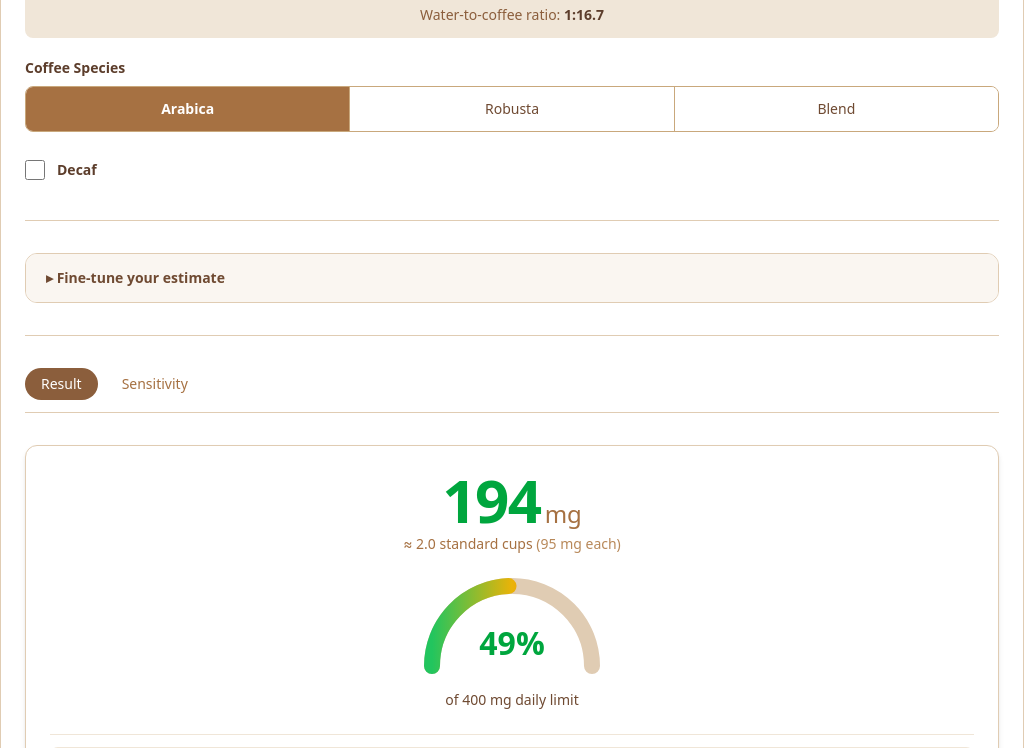
Test: Calculator › can switch back to Result view after viewing Sensitivity
The image size is (1024, 748).
(page scrolled)
Note: Go to Sensitivity
What coordinates should you click on to do the following:
click the button "Sensitivity"
I would click on:
 (155, 384)
Its box is 106,368 -> 204,400.
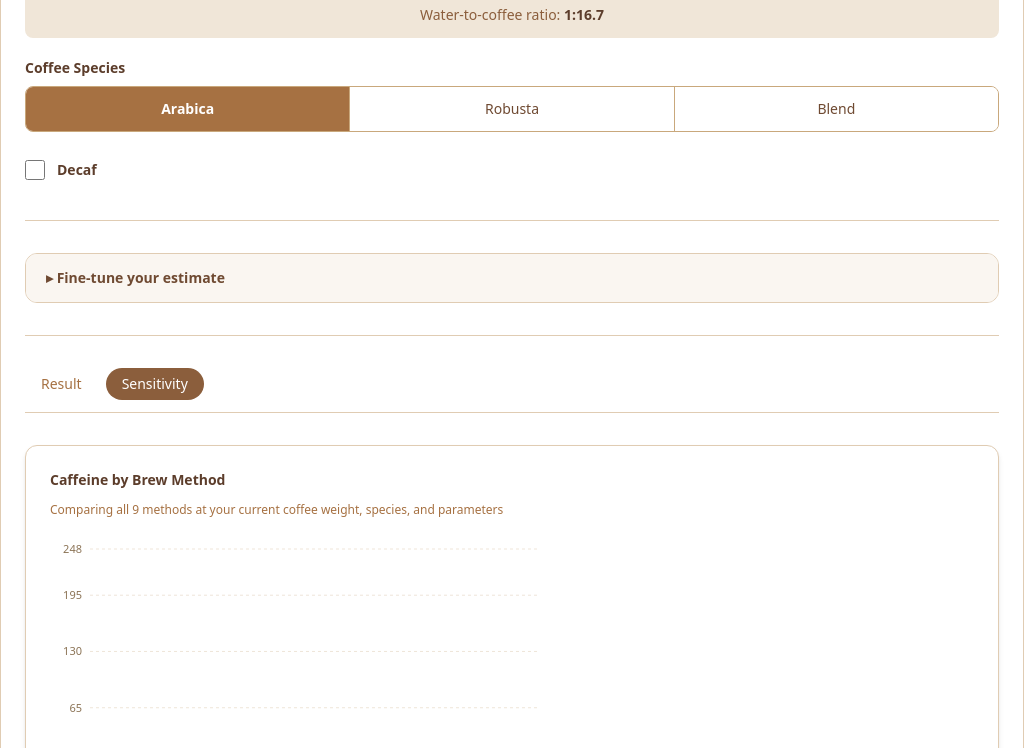
Check: the heading "Caffeine by Brew Method" is shown, box 50,470 -> 225,489
Note: Go back to Result
What coordinates should you click on to do the following:
click the button "Result"
I would click on:
 (61, 384)
Its box is 25,368 -> 98,400.
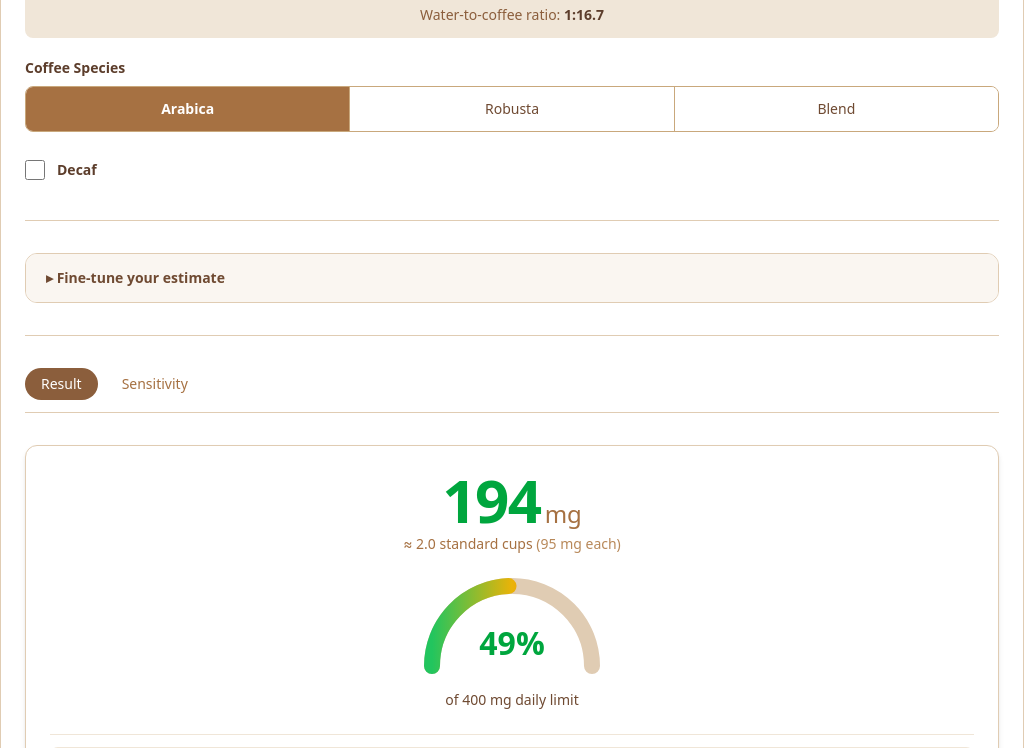
Check: the heading "Caffeine by Brew Method" is gone
